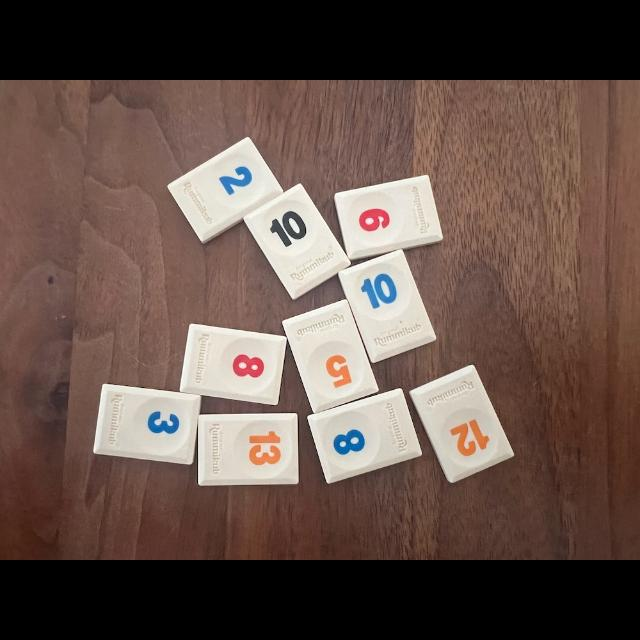black_10: (244, 184, 350, 299)
blue_10: (339, 250, 436, 362)
blue_2: (169, 138, 284, 242)
blue_3: (94, 384, 201, 464)
blue_8: (309, 389, 421, 484)
orange_12: (410, 365, 514, 482)
orange_13: (199, 414, 299, 485)
orange_5: (282, 300, 379, 412)
red_8: (180, 324, 286, 405)
red_9: (335, 175, 442, 260)
